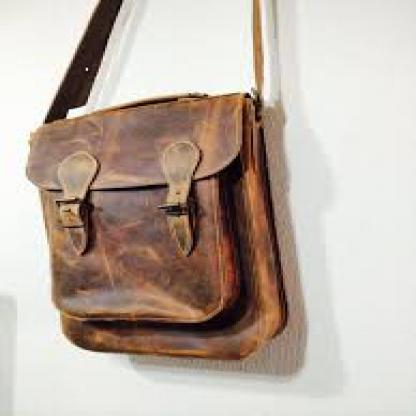morral: (9, 60, 338, 387)
